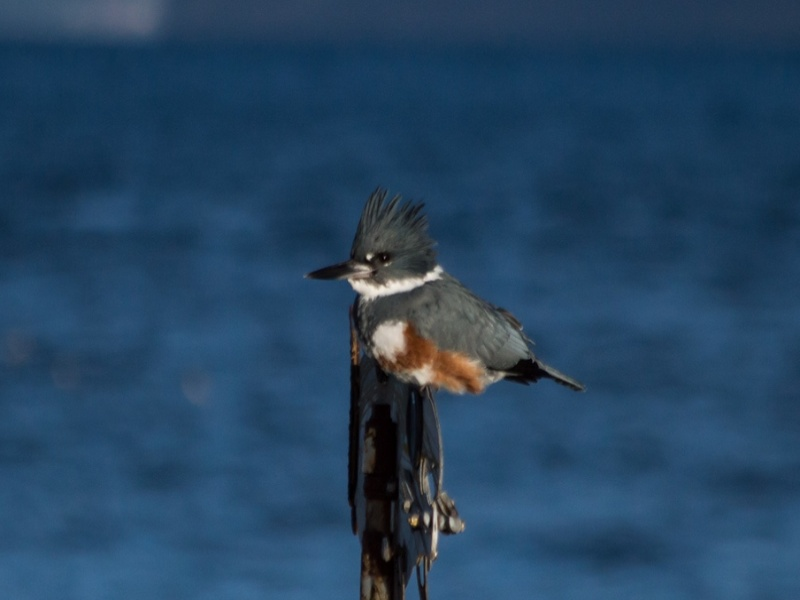kingfisher: (302, 187, 585, 402)
